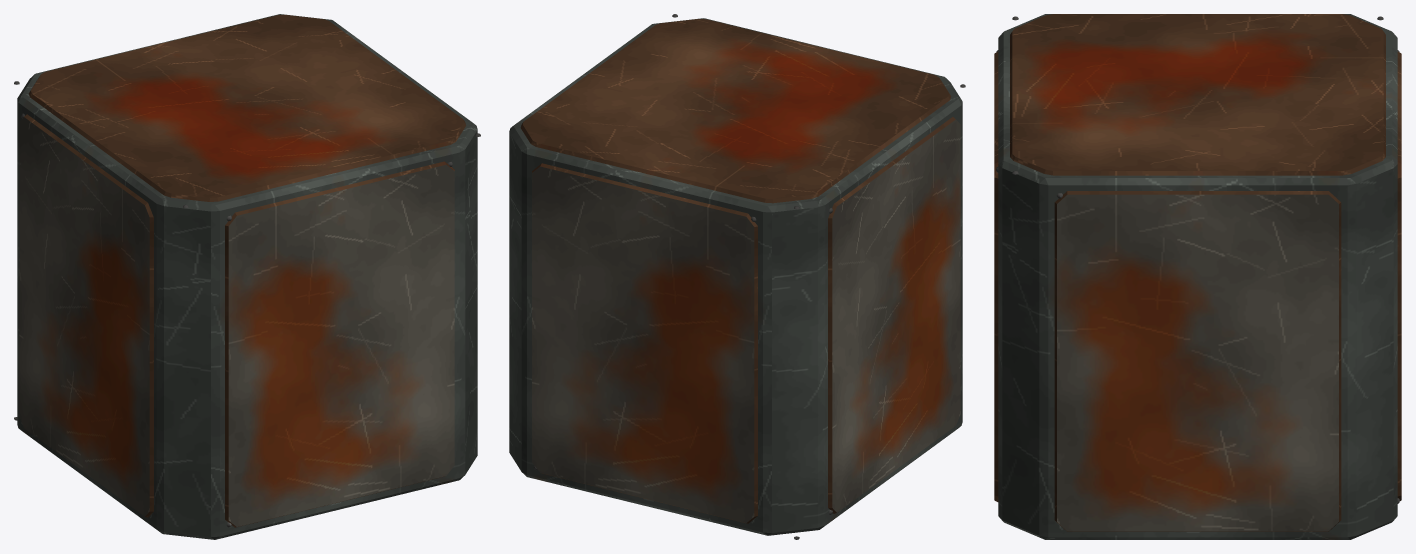
The model's file is R4B_OctColumn.glb.
The picture shows the model from 3 angles, left to right: view 1: azimuth 30°, elevation 25°; view 2: azimuth 150°, elevation 25°; view 3: azimuth 270°, elevation 25°; orthographic projection. The views are drawn at different scales.
Parts seen in each view (by area): view 1: R4B_OctColumn; view 2: R4B_OctColumn; view 3: R4B_OctColumn.
Part boxes in pixels (box(x1,y1,x2,y2)): R4B_OctColumn: box(14, 14, 480, 539); R4B_OctColumn: box(509, 14, 965, 539); R4B_OctColumn: box(994, 14, 1401, 539).
Bounding box in the file's own units: 0.52 × 0.52 × 0.52.
4 materials, 4 textured.
